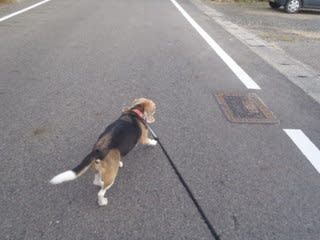kopek: (45, 97, 198, 222)
